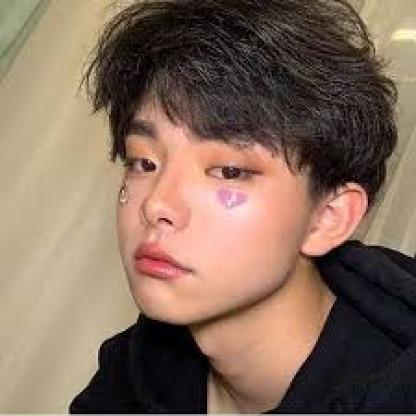person: (93, 6, 376, 320)
